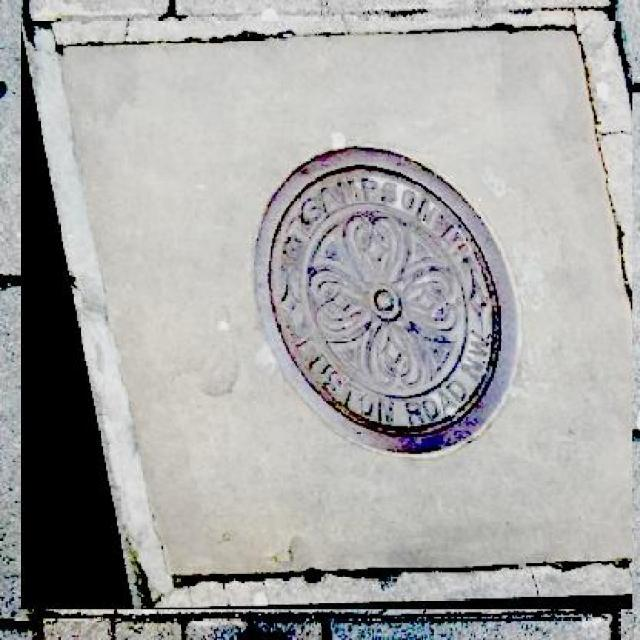Manhole: (20, 20, 632, 609)
